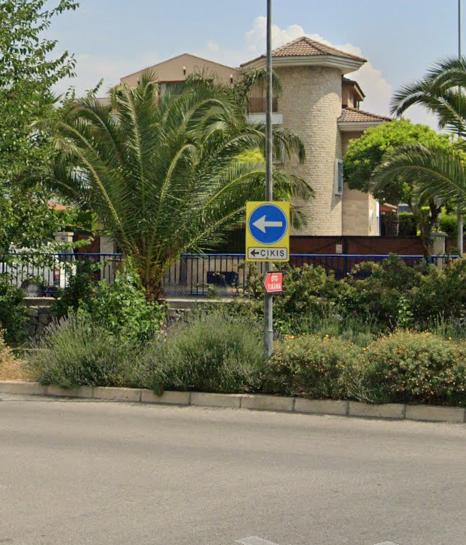turnleft: (247, 201, 289, 245)
